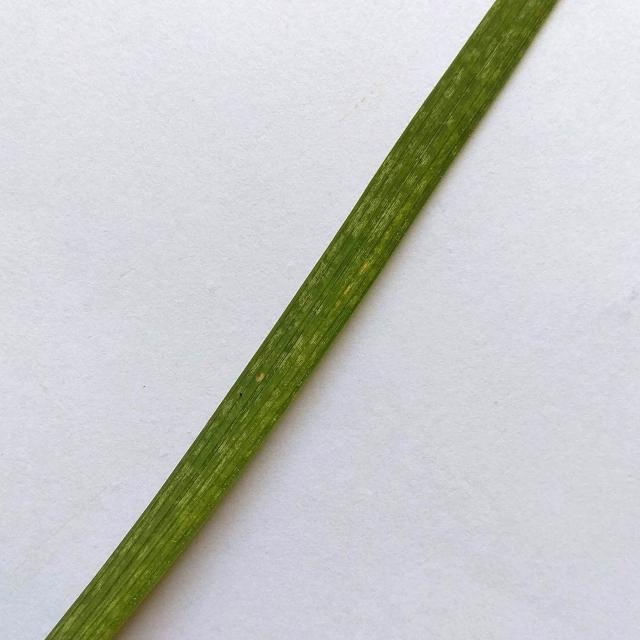brownspots: (254, 364, 266, 379)
